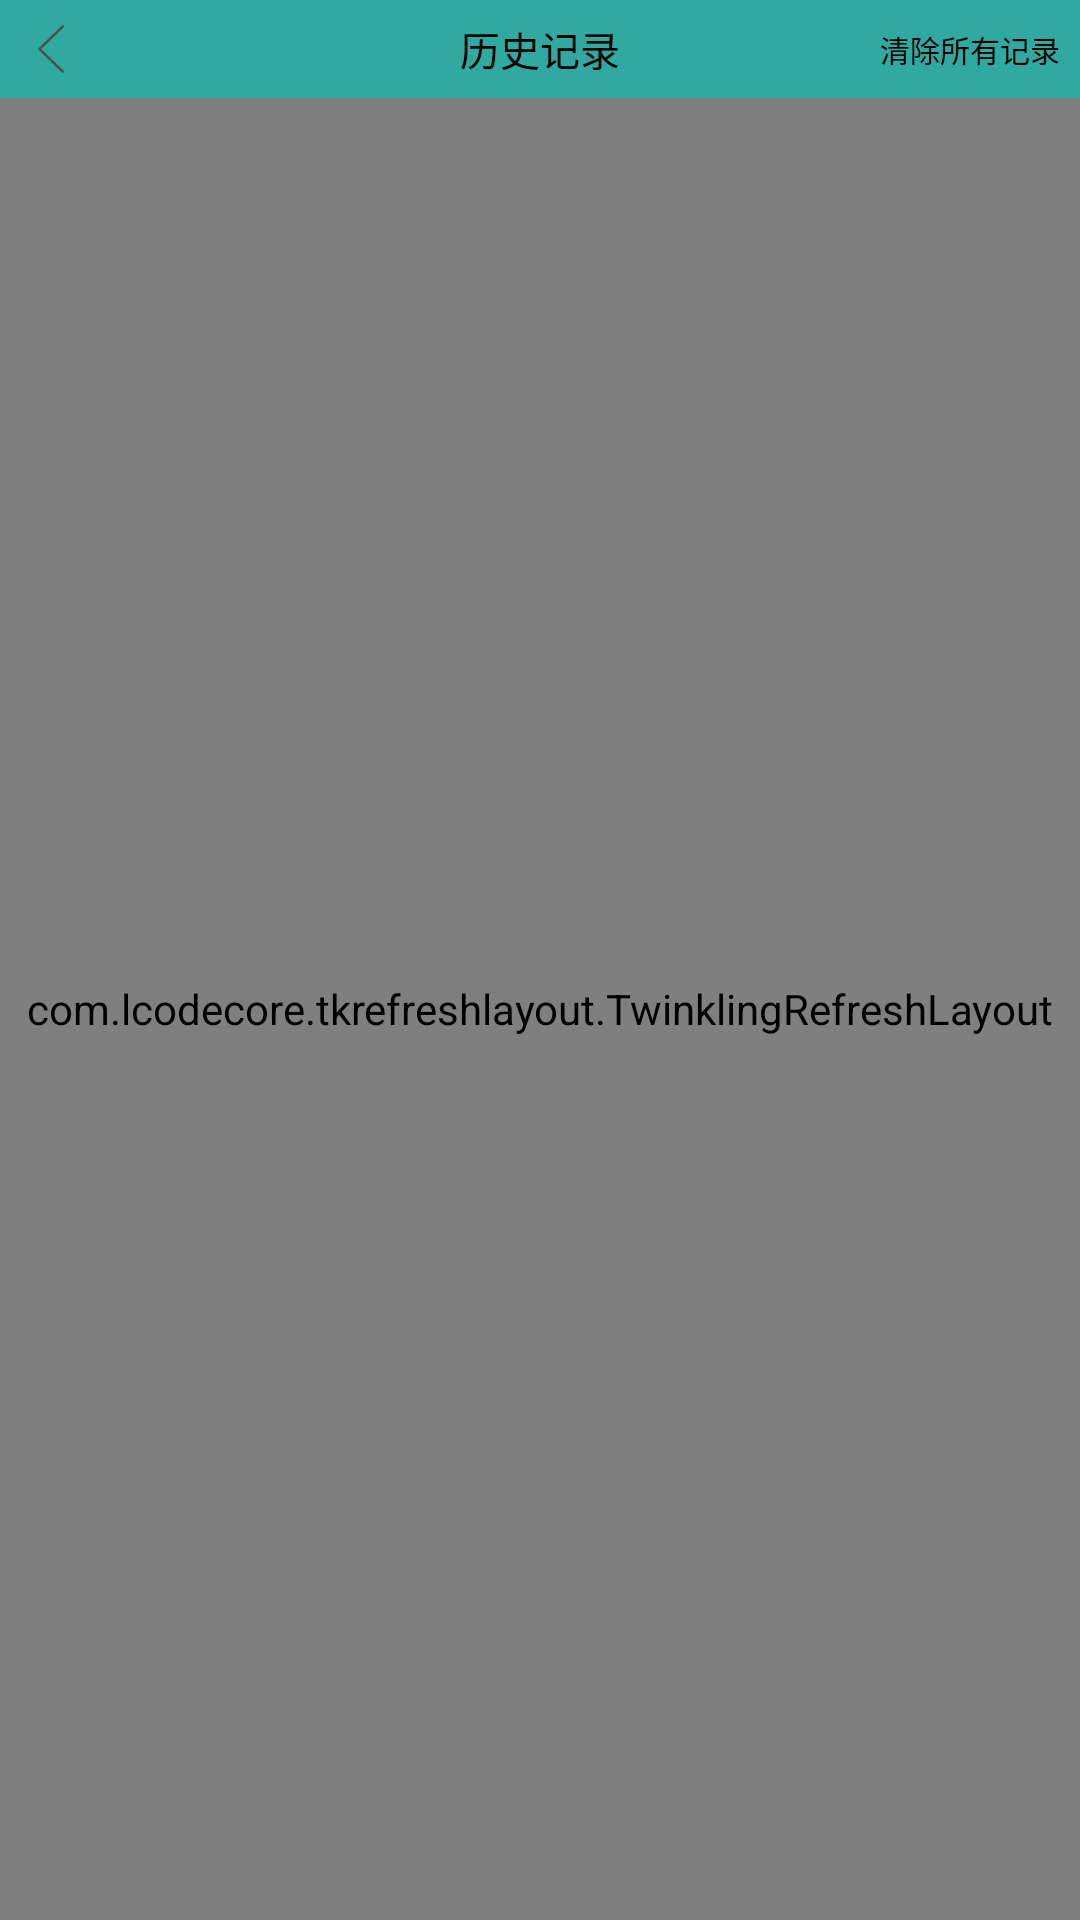

Locate icon controls on the screen. Image size 1080 x 1920, boxes as (x1, y1, x2, y2).
back: (38, 25, 64, 73)
